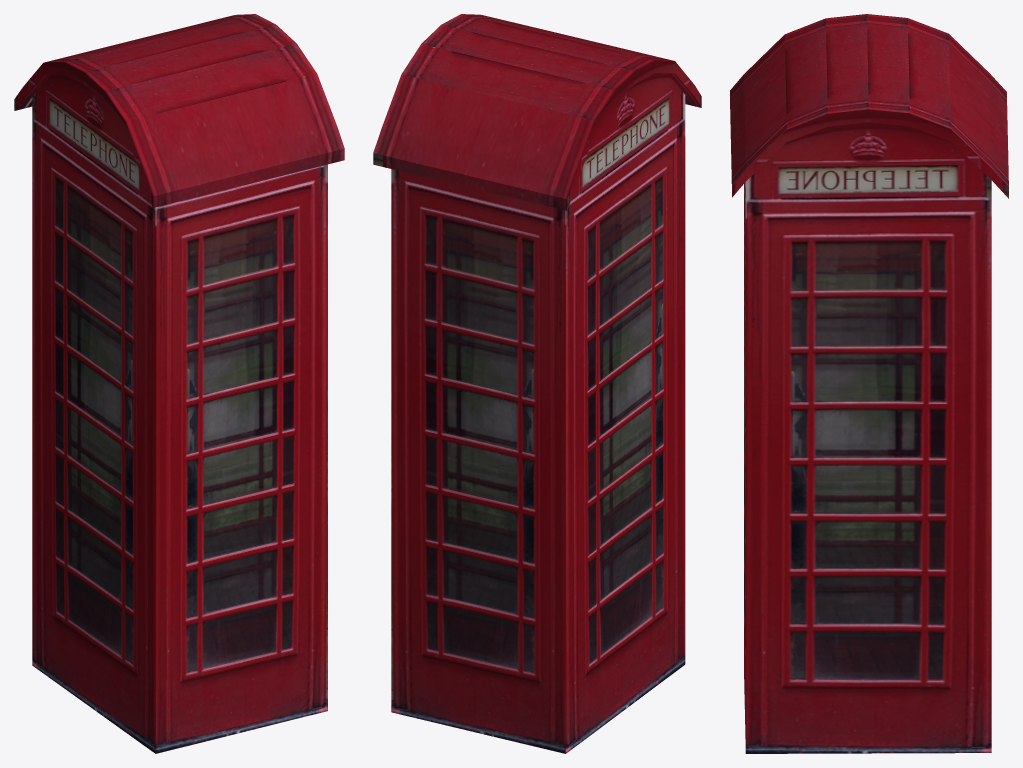
The model's file is phone booth.FBX.
3 renders of one model, left to right at view 1: azimuth 30°, elevation 25°; view 2: azimuth 150°, elevation 25°; view 3: azimuth 270°, elevation 25°, orthographic.
Visible parts, largest first — view 1: Box001; view 2: Box001; view 3: Box001.
Boxes of the visible parts, x1,y1,x2,y2 form: Box001: (14, 14, 344, 753); Box001: (373, 14, 701, 753); Box001: (730, 14, 1008, 753).
Size of the model in its own units: 5.85 by 18.34 by 7.14.
